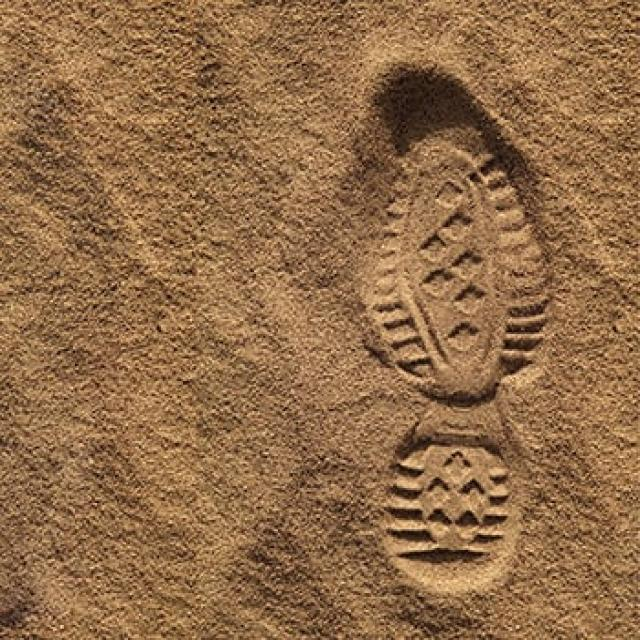human_foot_print: (269, 45, 597, 626)
